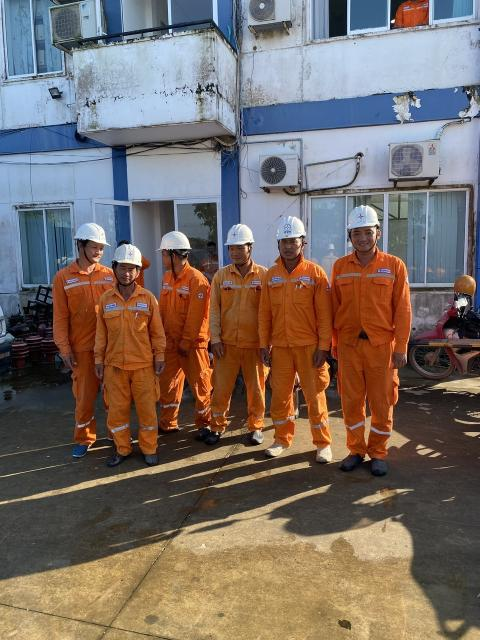helmet: (64, 215, 120, 253), (274, 213, 309, 248), (154, 227, 194, 257), (115, 236, 147, 270), (346, 207, 384, 235), (226, 221, 255, 252)
shoes: (103, 441, 133, 469), (197, 415, 222, 448), (338, 447, 367, 473), (68, 432, 92, 461), (140, 443, 164, 470), (264, 433, 288, 459), (313, 441, 336, 468), (368, 453, 391, 479), (248, 424, 267, 449)
